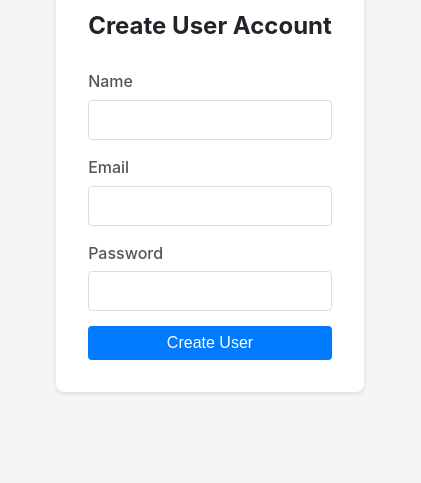
Test: UserForm › should show error on validation failure
Type "John Doe" into the field labelled "Name" at (210, 120), box [88,100,332,140]
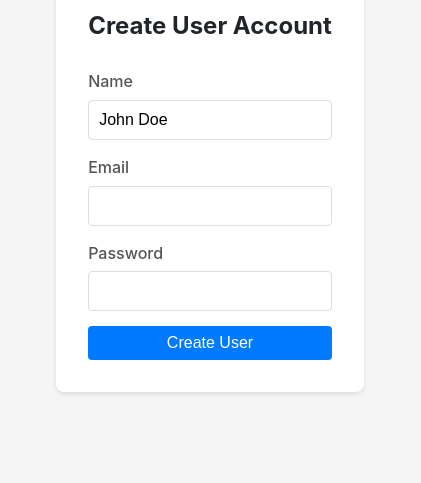
Type "john@example.com" into the field labelled "Email" at (210, 206), box [88,186,332,226]
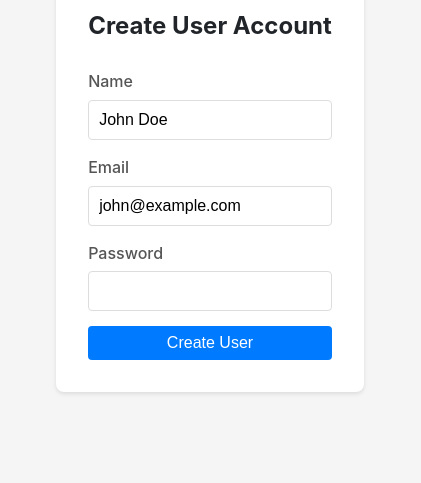
Type "pass" into the password field labelled "Password" at (210, 291), box [88,271,332,311]
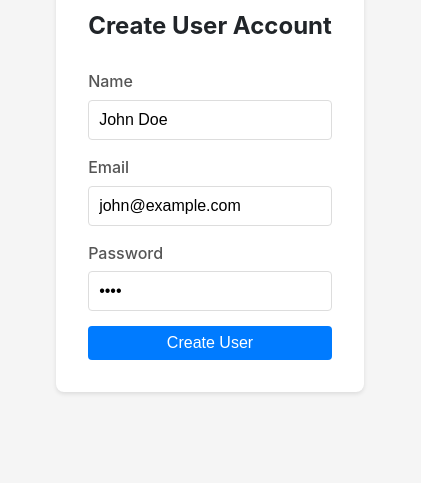
Click the button "Create User" at (210, 343), box [88,326,332,360]
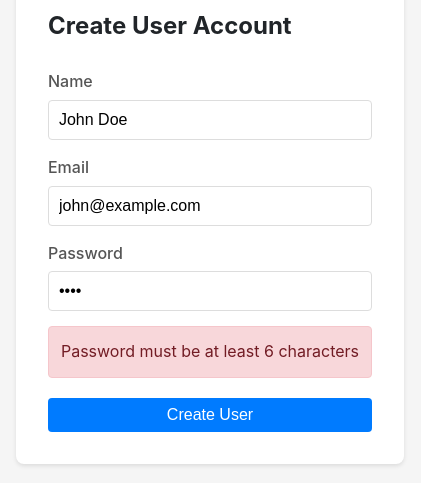
Expected: the text "Password must be at least 6 characters" is shown, [48,326,372,378]
